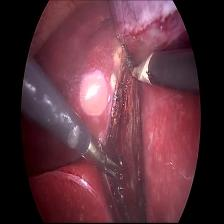Grasper: (89, 131, 125, 191)
Hook: (123, 51, 156, 96)
